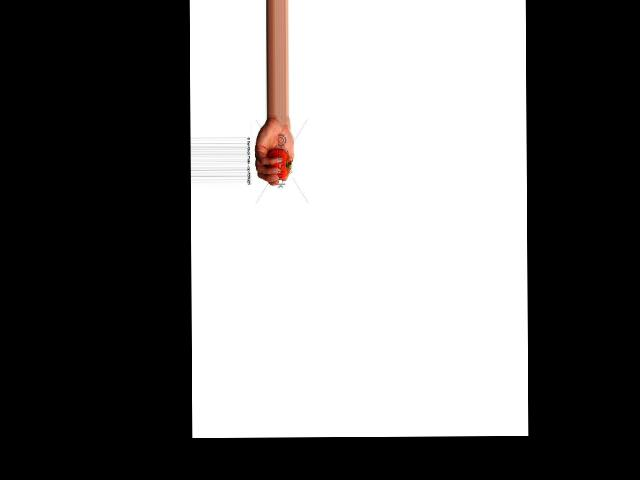tomato: (264, 150, 290, 179)
